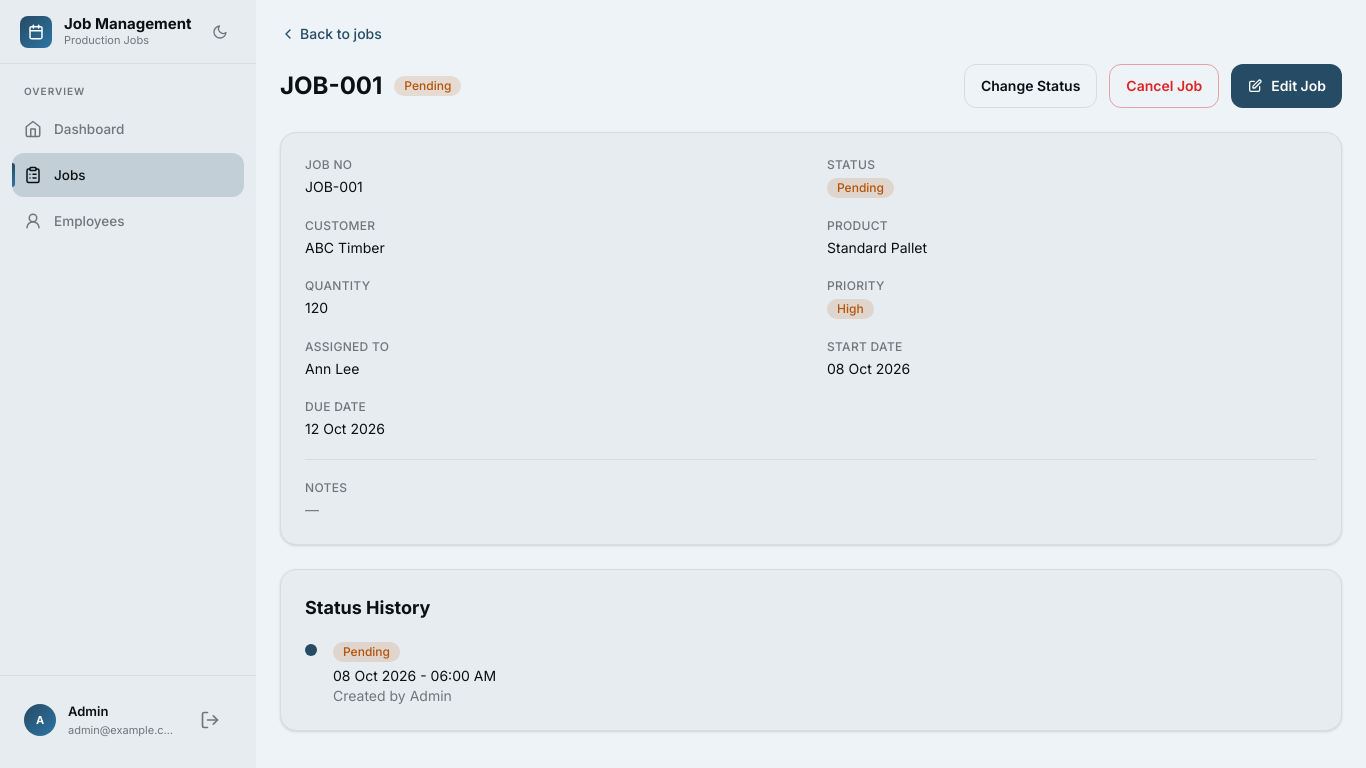
status actions on the job details page › lists only the valid next status in the dialog
Expected: the heading "JOB-001" is shown, [280,70,382,102]
Step 1. Click the button "Change Status" → (1031, 86), box [964,64,1097,108]
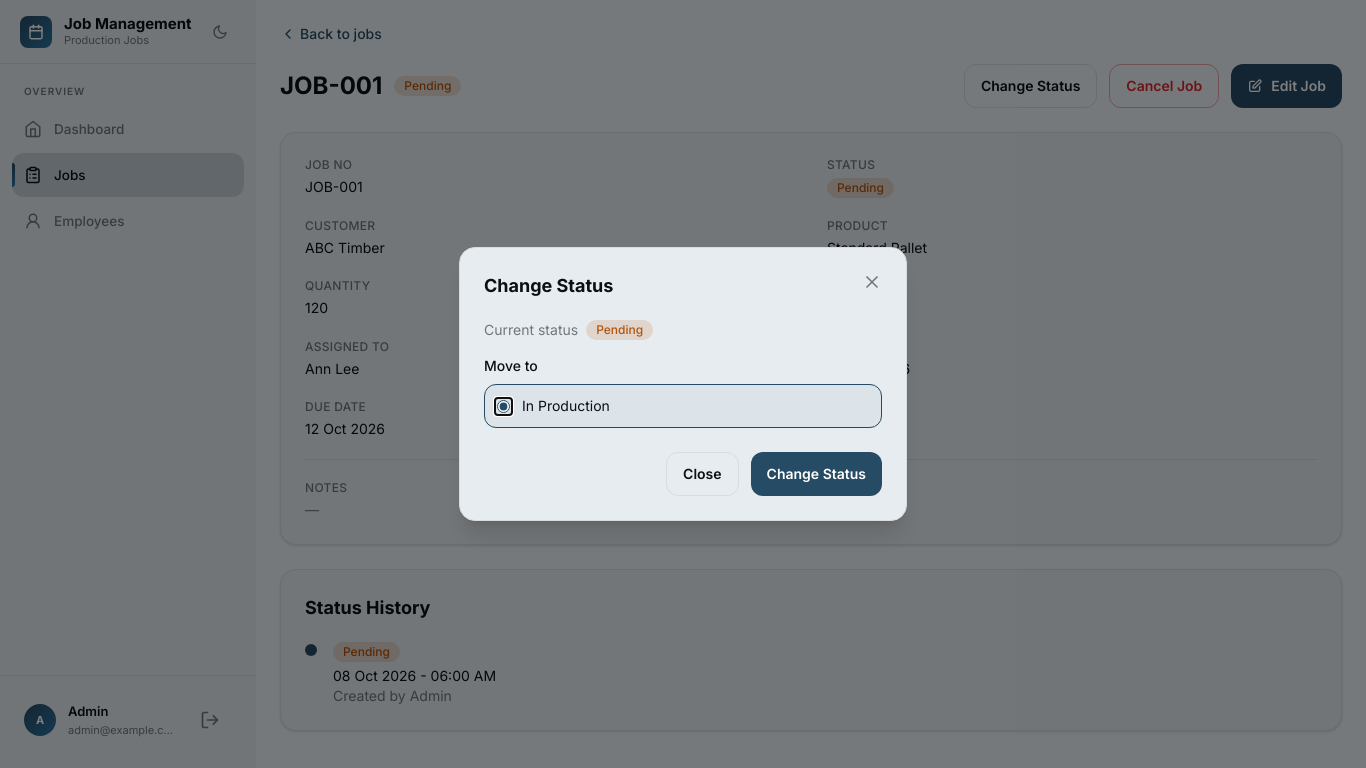
Result: the number of radio buttons is 1 at [497,400,510,412]
Result: the radio button labelled "In Production" is checked at [497,400,510,412]
